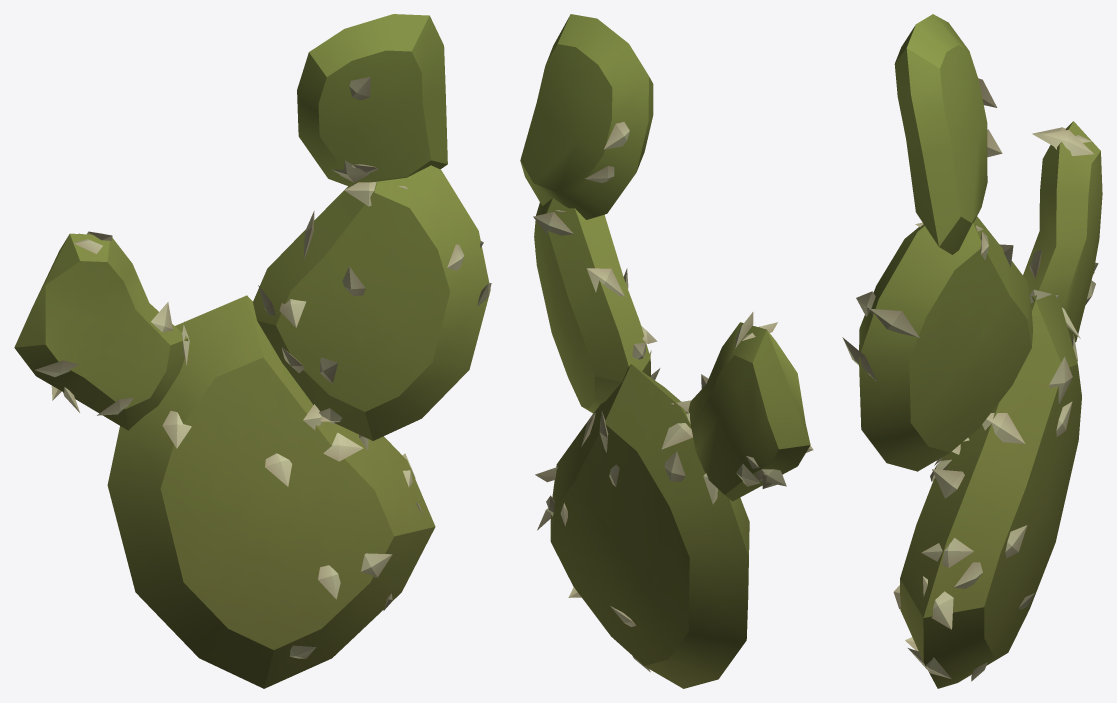
The model's file is Cactus4.fbx.
3 renders of one model, left to right at view 1: azimuth 30°, elevation 25°; view 2: azimuth 150°, elevation 25°; view 3: azimuth 270°, elevation 25°, orthographic. The views are drawn at different scales.
Parts seen in each view (by area): view 1: Cactus4; view 2: Cactus4; view 3: Cactus4.
Part boxes in pixels (x1=…): Cactus4: x1=14, y1=14, x2=491, y2=688; Cactus4: x1=520, y1=14, x2=813, y2=688; Cactus4: x1=842, y1=14, x2=1102, y2=688.
Bounding box in the file's own units: 202 × 340 × 112.
